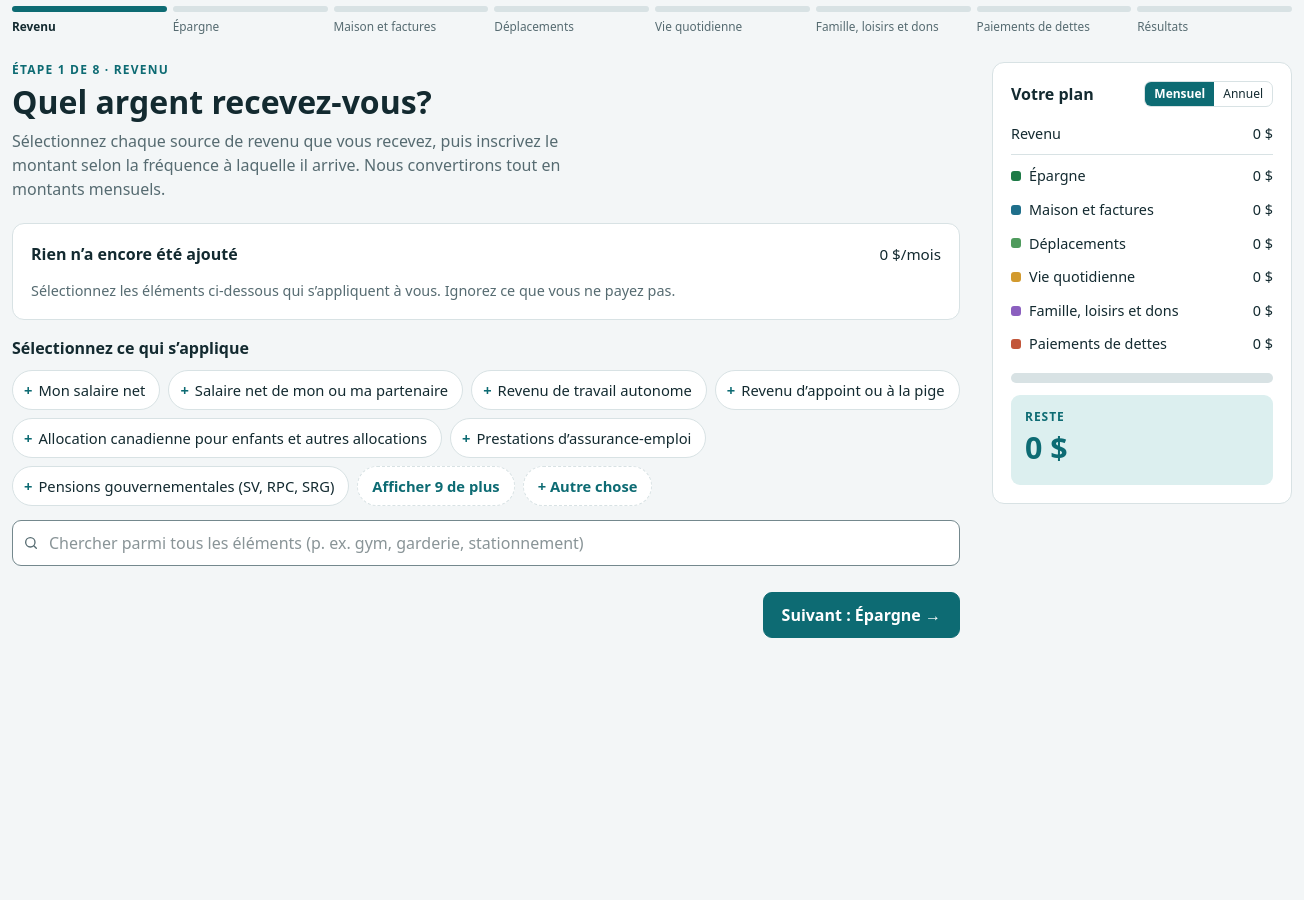
Test: BudgetApp › uses French labels
Expected: the navigation bar named "Progression" is shown, [12,6,1292,36]
What coordinates should you click on to do the following:
click the button named "Suivant : Épargne →"
I would click on:
 (861, 615)
Its box is [763,592,960,638].
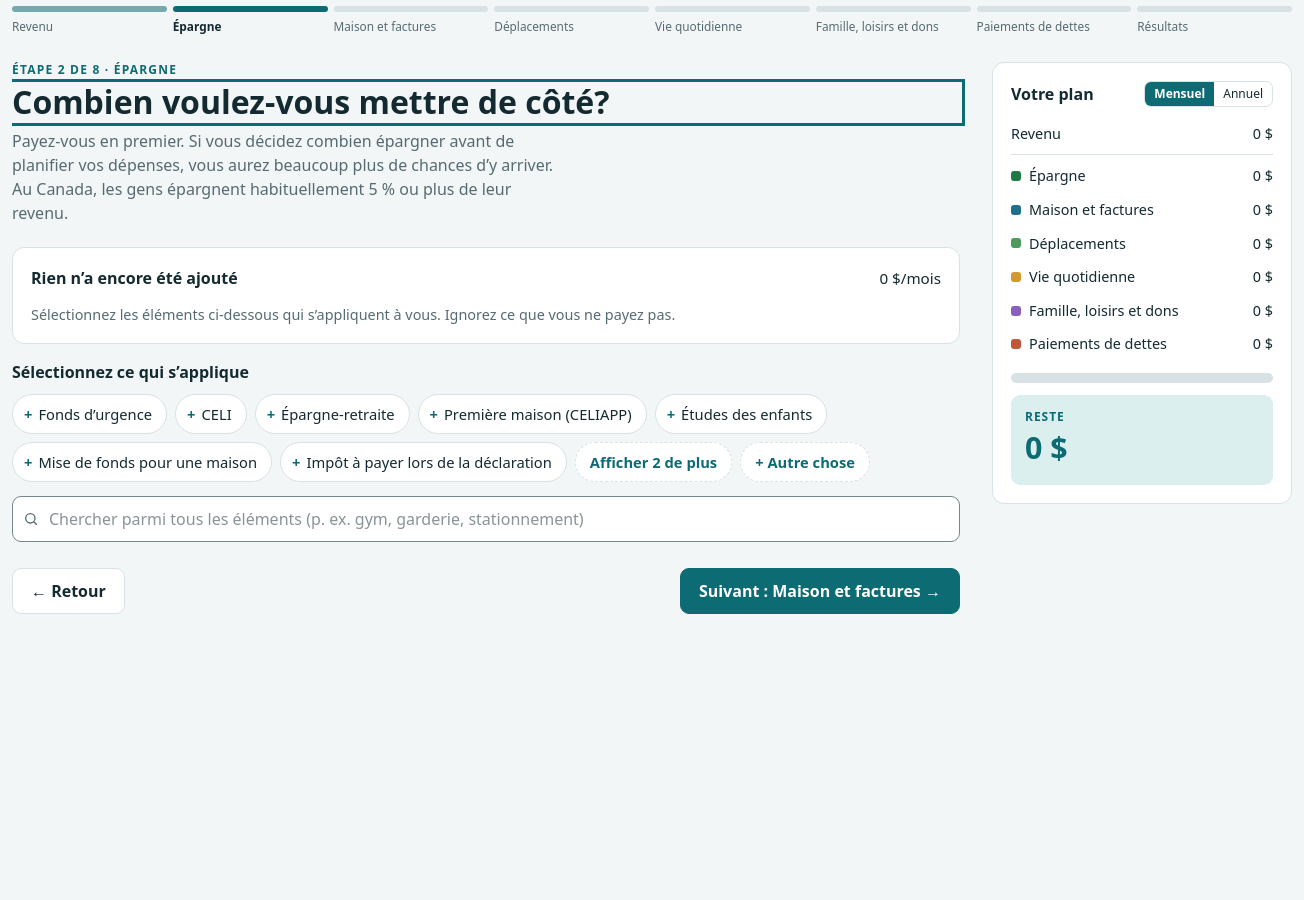
Result: the button "← Retour" is shown at [12,568,125,614]
